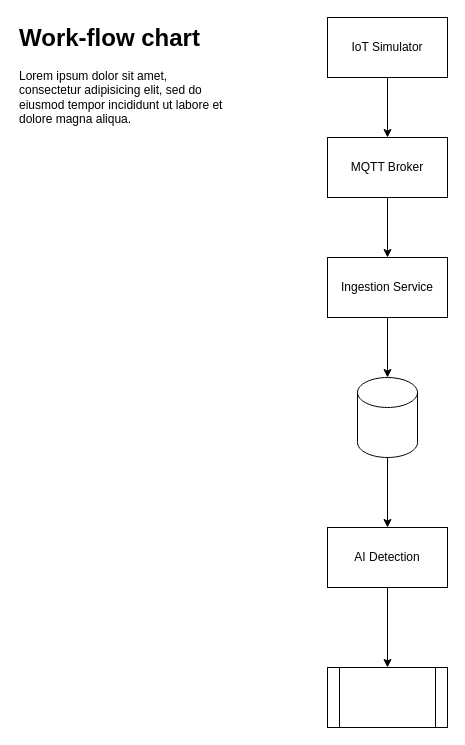
Some shapes in this 465 by 745 pixel diagram are drawn without their labels. The box of each missing label's shape, as (x1, y1, x2, y2) in pixels:
Grafana Dashboard: (326, 666, 448, 728)
InfluxDB: (356, 376, 418, 458)
